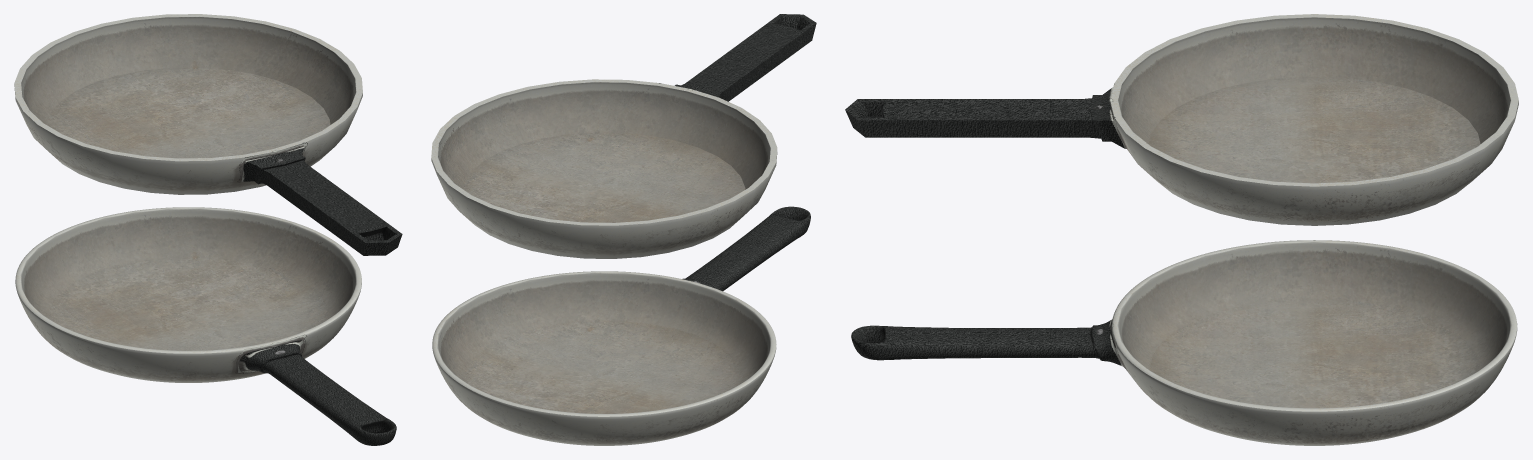
File: frying_pan_FBX.fbx
3 renders of one model, left to right at view 1: azimuth 30°, elevation 25°; view 2: azimuth 150°, elevation 25°; view 3: azimuth 270°, elevation 25°, orthographic. The views are drawn at different scales.
Visible parts, largest first — view 1: frying_pan_LowPoly, frying_pan_Subdiv; view 2: frying_pan_LowPoly, frying_pan_Subdiv; view 3: frying_pan_LowPoly, frying_pan_Subdiv.
Boxes of the visible parts, bbox=[...] form: frying_pan_LowPoly: bbox=[14, 14, 402, 255]; frying_pan_Subdiv: bbox=[15, 207, 396, 445]; frying_pan_LowPoly: bbox=[431, 14, 816, 258]; frying_pan_Subdiv: bbox=[432, 206, 810, 445]; frying_pan_LowPoly: bbox=[845, 14, 1518, 225]; frying_pan_Subdiv: bbox=[851, 240, 1517, 445].
Size of the model in its own units: 329 by 253 by 543.
1 material, 1 textured.
